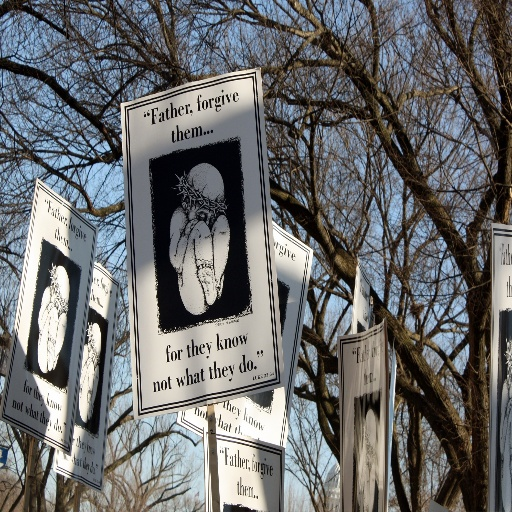hand: (185, 217, 198, 235), (506, 399, 511, 416), (47, 301, 54, 311), (86, 356, 91, 366)
